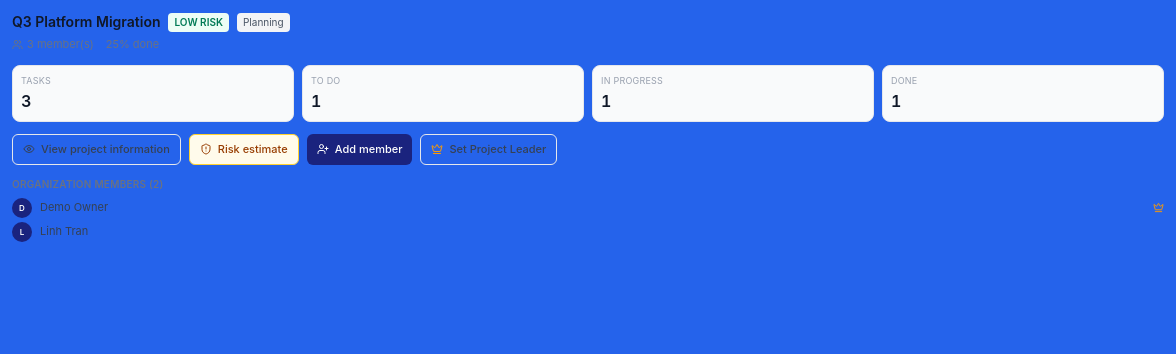
Test: OrganizationProjectPanel › keeps the sweep going when one task's analysis fails
The width and height of the screenshot is (1176, 354).
Check: the text "Tasks" is shown, box [21,74,51,86]
Click the button "Risk estimate": (244, 149) [189,134,299,164]
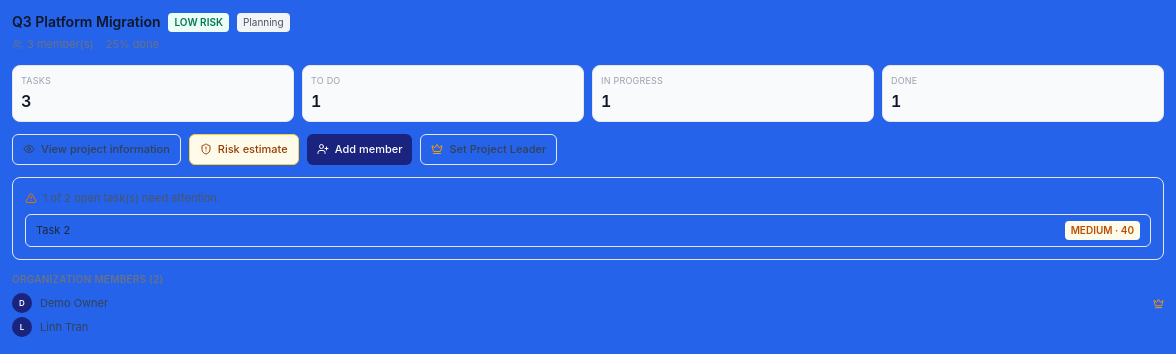
Check: the text "1 of 2 open task(s) need attention." is shown, box [25,190,220,204]
